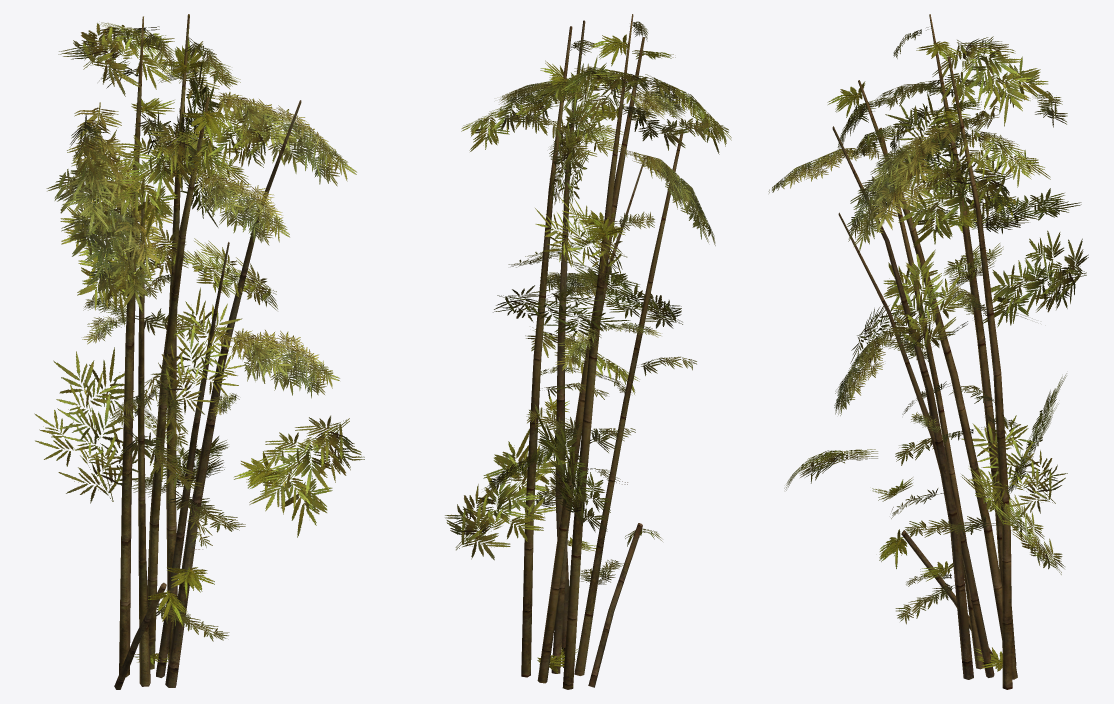
Rendered from q01a_tree_03.FBX.
3 renders of one model, left to right at view 1: azimuth 30°, elevation 25°; view 2: azimuth 150°, elevation 25°; view 3: azimuth 270°, elevation 25°, orthographic. The views are drawn at different scales.
Parts seen in each view (by area): view 1: q01a_tree_03; view 2: q01a_tree_03; view 3: q01a_tree_03.
Boxes of the visible parts, x1,y1,x2,y2 form: q01a_tree_03: (34, 14, 364, 689); q01a_tree_03: (445, 14, 731, 689); q01a_tree_03: (768, 14, 1088, 689).
Bounding box in the file's own units: 311 × 765 × 363.
